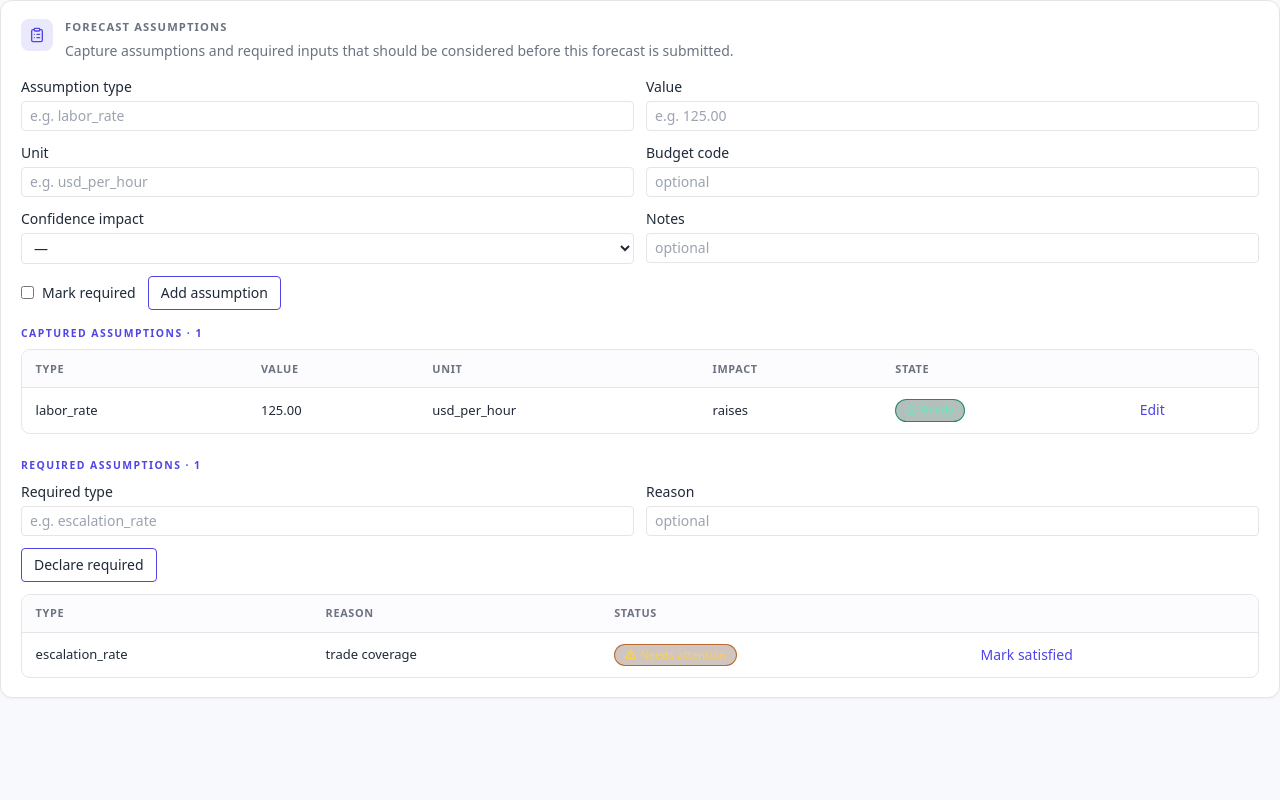
ForecastOperatorAssumptionsPanel › blocks submit with an empty assumption type
The image size is (1280, 800).
Click the button "Add assumption": point(214, 292) 148,276 -> 281,310
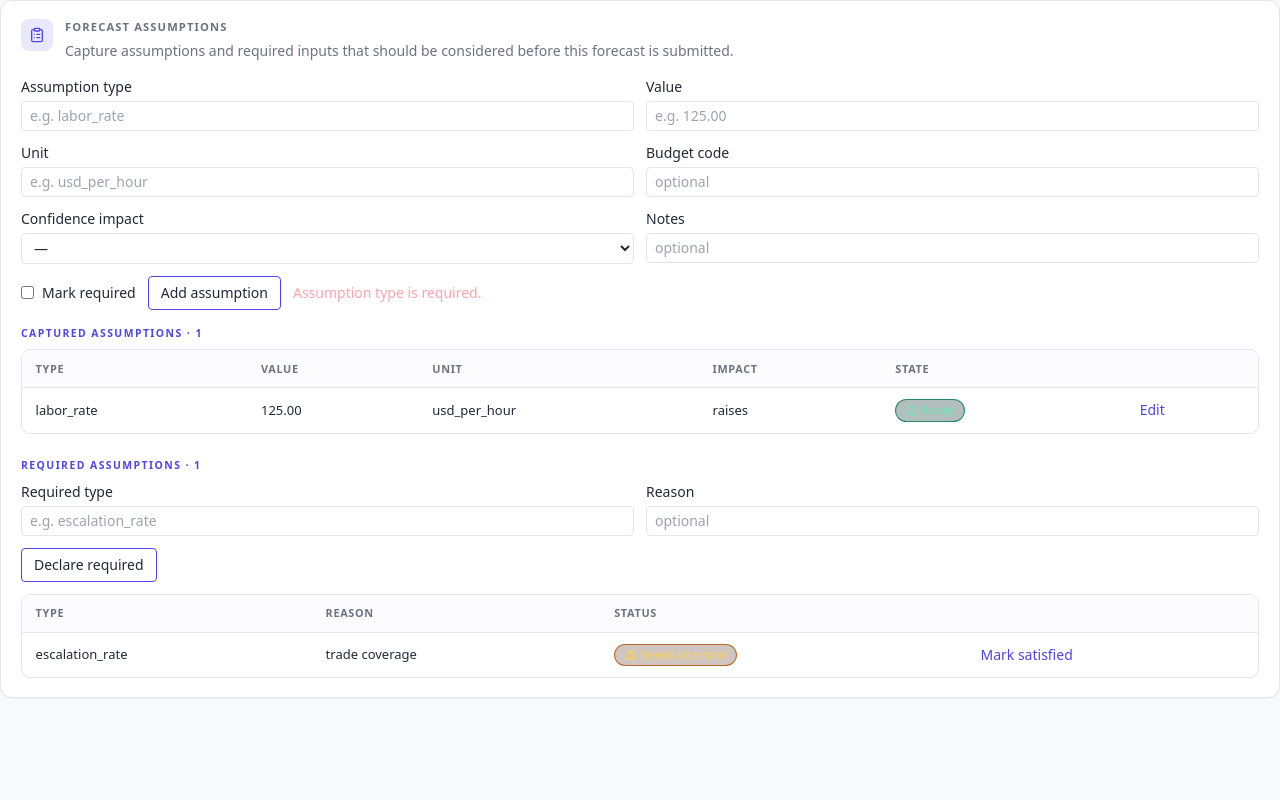
Expected: the text "Assumption type is required." is shown, 293,282 -> 482,302
